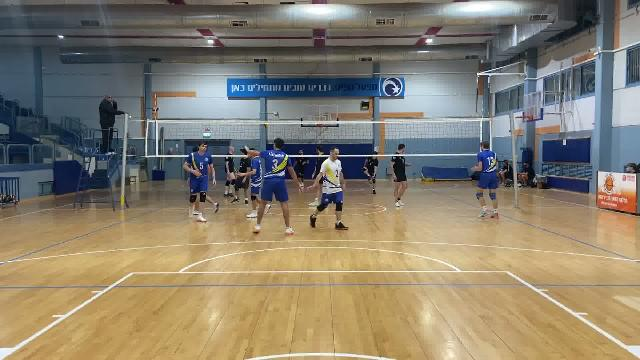ball: (264, 122, 270, 129)
